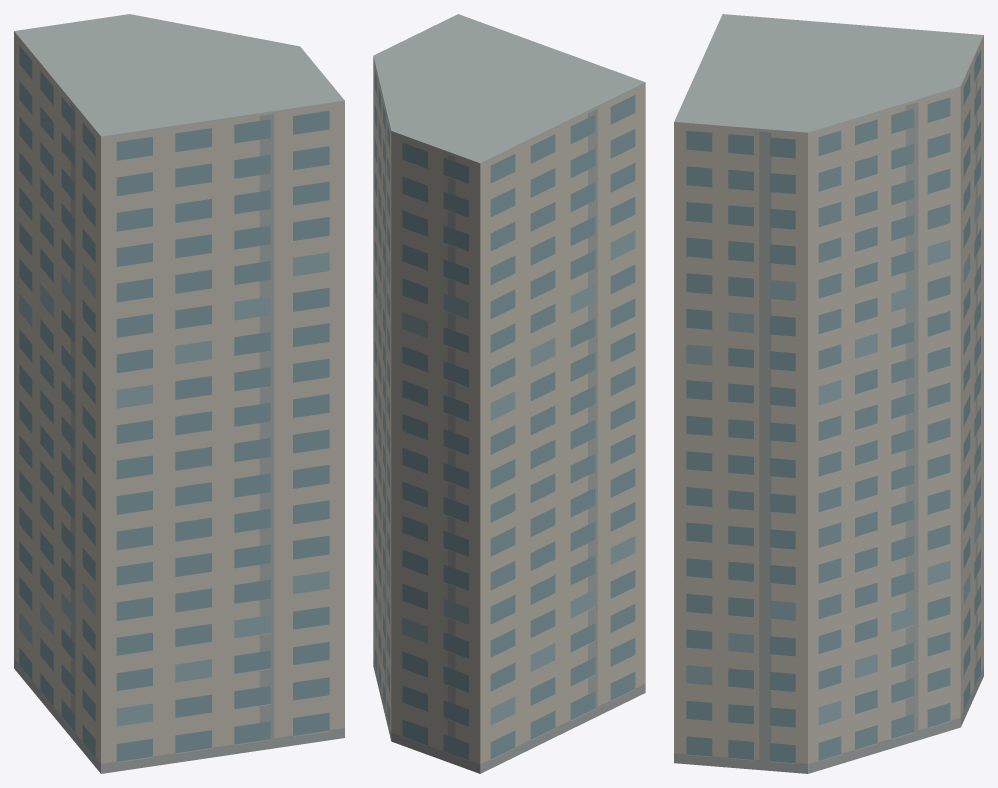
File: residential-b39bfc30-7472-40a8-b8f6-c6607046dc76.glb
The picture shows the model from 3 angles, left to right: view 1: azimuth 30°, elevation 25°; view 2: azimuth 150°, elevation 25°; view 3: azimuth 270°, elevation 25°; orthographic projection. The views are drawn at different scales.
Parts seen in each view (by area): view 1: residential-b39bfc30-7472-40a8-b8f6-c6607046dc76.tmp; view 2: residential-b39bfc30-7472-40a8-b8f6-c6607046dc76.tmp; view 3: residential-b39bfc30-7472-40a8-b8f6-c6607046dc76.tmp.
Part boxes in pixels (<box>): residential-b39bfc30-7472-40a8-b8f6-c6607046dc76.tmp: <box>14,14,344,773</box>; residential-b39bfc30-7472-40a8-b8f6-c6607046dc76.tmp: <box>373,14,645,773</box>; residential-b39bfc30-7472-40a8-b8f6-c6607046dc76.tmp: <box>674,14,983,773</box>.
Bounding box in the file's own units: 21.79 × 54.9 × 24.05.
